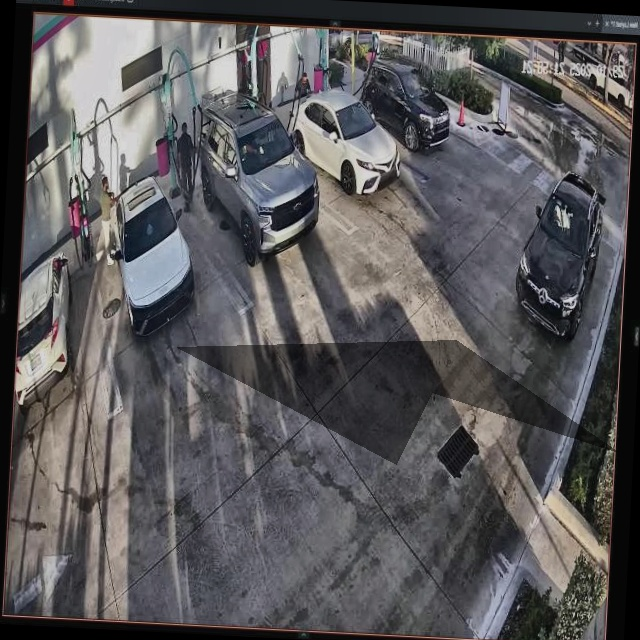Car: (200, 101, 327, 260), (109, 177, 201, 340), (286, 87, 395, 197), (362, 56, 453, 164)
